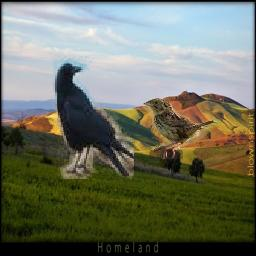Crow: (54, 57, 135, 180)
Sparrow: (143, 97, 222, 159)
